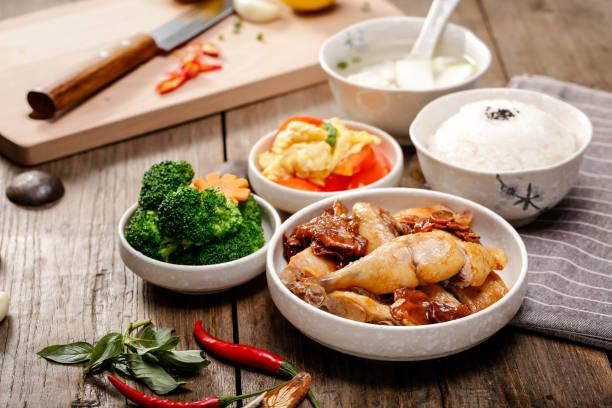Braised Crucian Carp: (264, 188, 525, 360), (411, 88, 591, 226), (116, 156, 276, 294), (247, 115, 405, 217)
